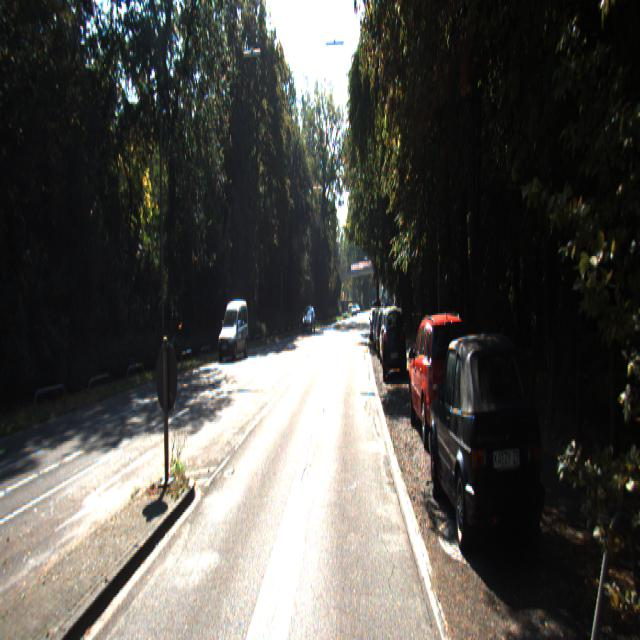Car: (428, 324, 550, 570), (407, 306, 478, 452), (216, 298, 250, 363), (383, 302, 407, 376), (381, 306, 404, 369), (377, 307, 394, 357), (371, 308, 382, 342)
